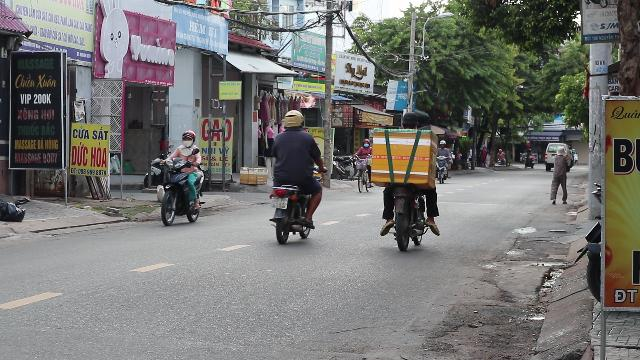helmet: (282, 109, 304, 128), (179, 129, 195, 147)
licenseplate: (271, 197, 287, 207)
motorcyclist: (371, 110, 443, 252), (266, 108, 324, 244), (156, 128, 208, 226)
nohelmet: (400, 112, 420, 130)
